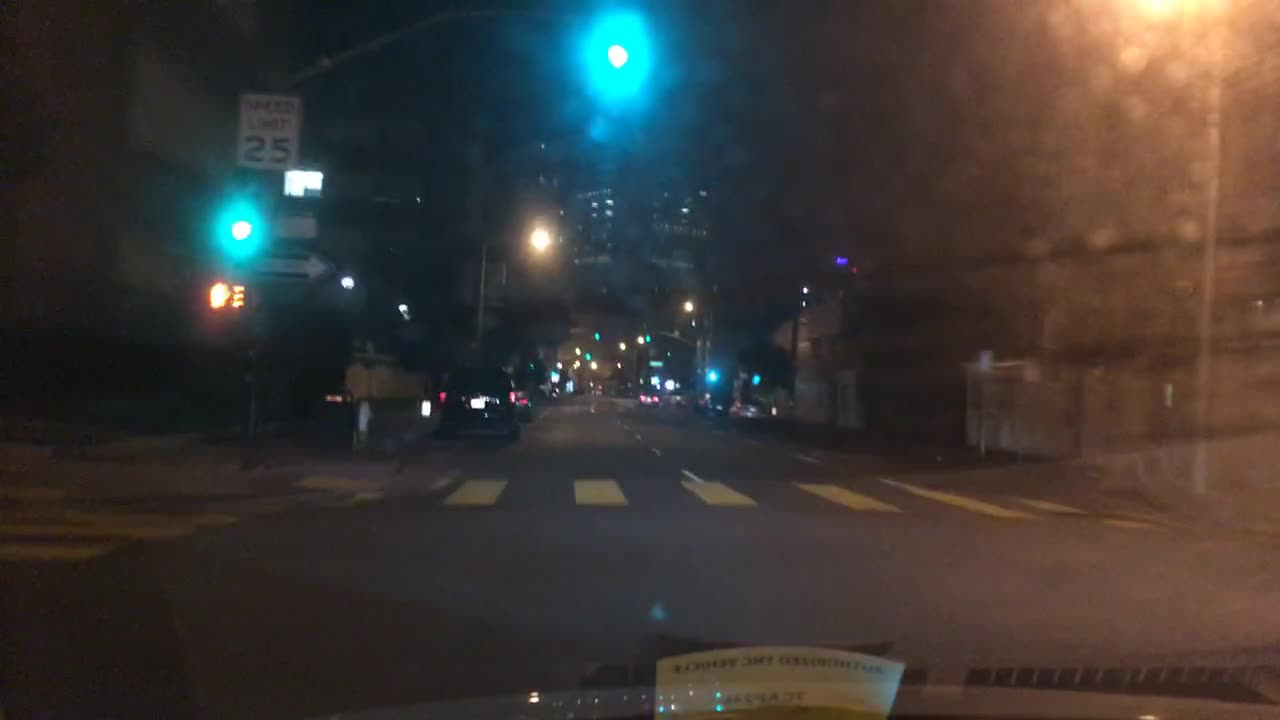car: (435, 366, 522, 444), (728, 397, 772, 429), (699, 387, 737, 419), (638, 379, 662, 407), (518, 385, 534, 422), (665, 386, 687, 409)
traffic light: (602, 7, 631, 75), (211, 278, 247, 315), (229, 196, 255, 247), (703, 367, 719, 382), (643, 325, 654, 343), (593, 323, 602, 343), (751, 375, 762, 387), (585, 348, 591, 361)
traffic sign: (235, 91, 303, 170), (256, 250, 336, 282), (269, 206, 320, 240), (280, 165, 326, 200), (644, 358, 666, 371)
